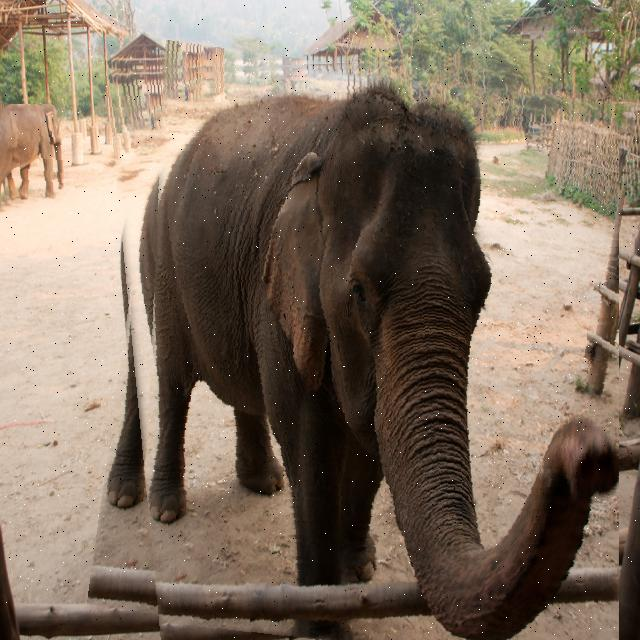elephant: (106, 55, 619, 640), (0, 104, 64, 211)
